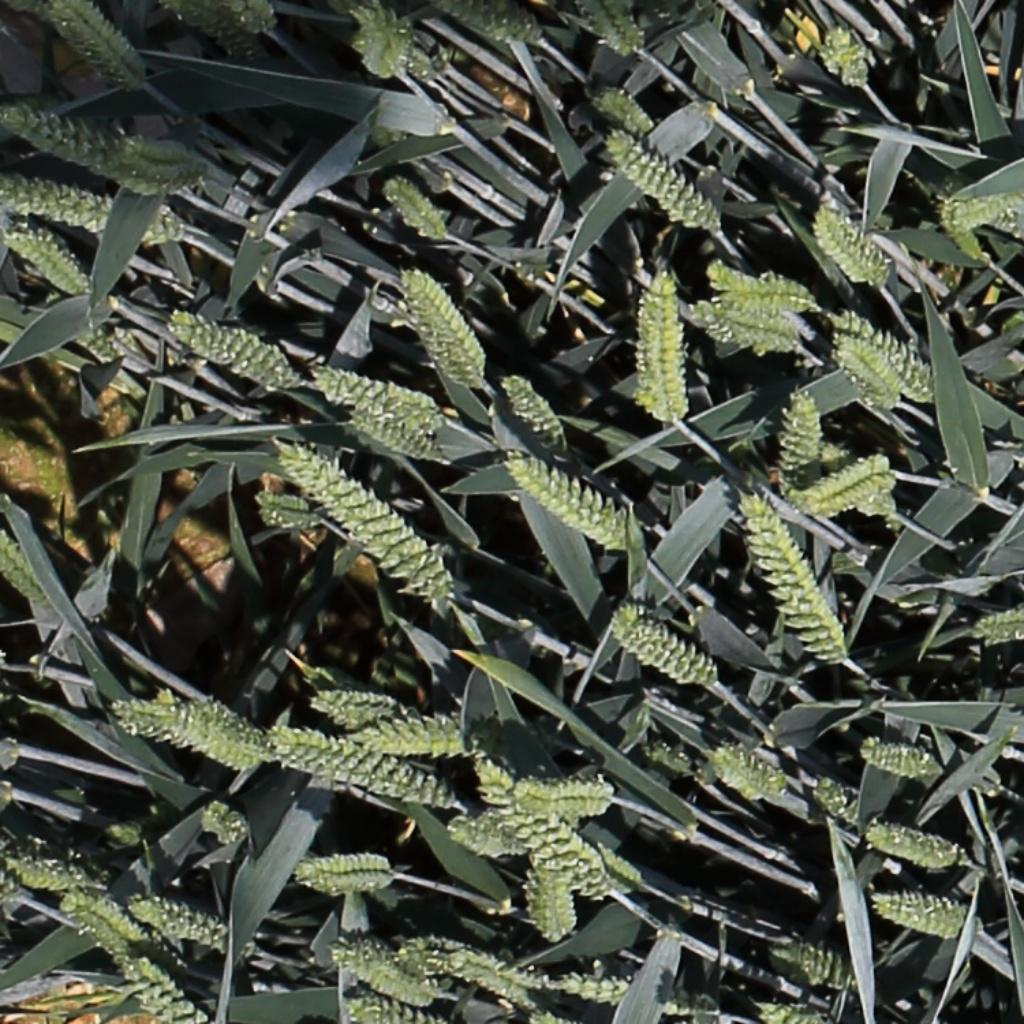0-0: (278, 445, 466, 595), (470, 748, 619, 887), (737, 486, 849, 666), (262, 711, 450, 809), (5, 107, 185, 187), (1, 180, 206, 250), (401, 926, 545, 1024), (506, 450, 636, 552), (600, 125, 718, 229), (166, 312, 315, 394), (155, 681, 265, 776), (104, 699, 275, 759), (627, 251, 685, 421), (832, 309, 936, 402), (404, 266, 486, 382), (341, 694, 481, 761), (610, 611, 715, 688), (50, 6, 143, 87), (812, 202, 897, 286), (666, 301, 800, 354), (309, 367, 431, 419), (330, 943, 432, 1004), (768, 382, 828, 481), (496, 371, 567, 453), (558, 984, 705, 1022), (447, 814, 575, 857), (2, 228, 86, 293), (866, 811, 961, 868), (290, 847, 406, 892), (832, 333, 897, 408), (698, 285, 825, 323), (803, 773, 881, 834), (348, 409, 439, 461), (173, 1, 253, 60), (356, 1, 412, 79), (125, 901, 222, 946), (379, 173, 446, 238), (441, 2, 539, 45), (308, 683, 406, 726), (126, 954, 191, 1017), (935, 193, 988, 270), (953, 185, 1024, 242), (800, 456, 887, 502), (854, 728, 937, 776), (521, 850, 559, 950), (0, 524, 46, 606), (62, 895, 137, 944), (169, 520, 228, 582), (804, 476, 890, 516), (711, 749, 779, 798), (248, 488, 323, 531), (873, 898, 965, 933), (820, 23, 868, 90), (576, 2, 632, 57), (772, 946, 846, 984), (544, 857, 574, 948), (596, 1, 645, 55), (595, 88, 652, 133), (969, 605, 1024, 651), (5, 861, 81, 894), (591, 846, 644, 891), (196, 802, 245, 849), (341, 999, 436, 1022), (95, 394, 129, 446), (757, 1004, 820, 1024), (240, 1, 275, 32)
